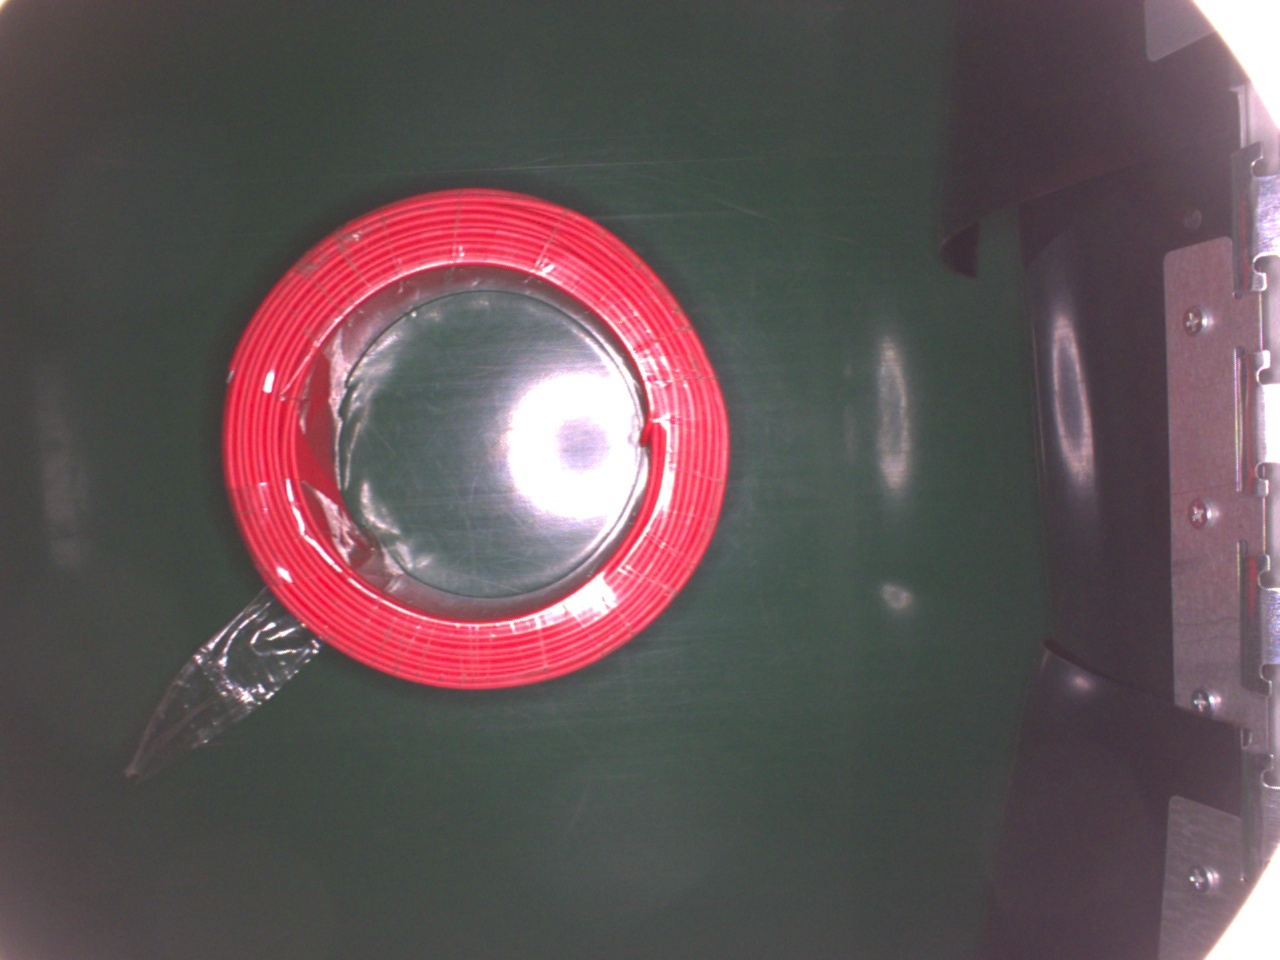red: (220, 183, 727, 693)
